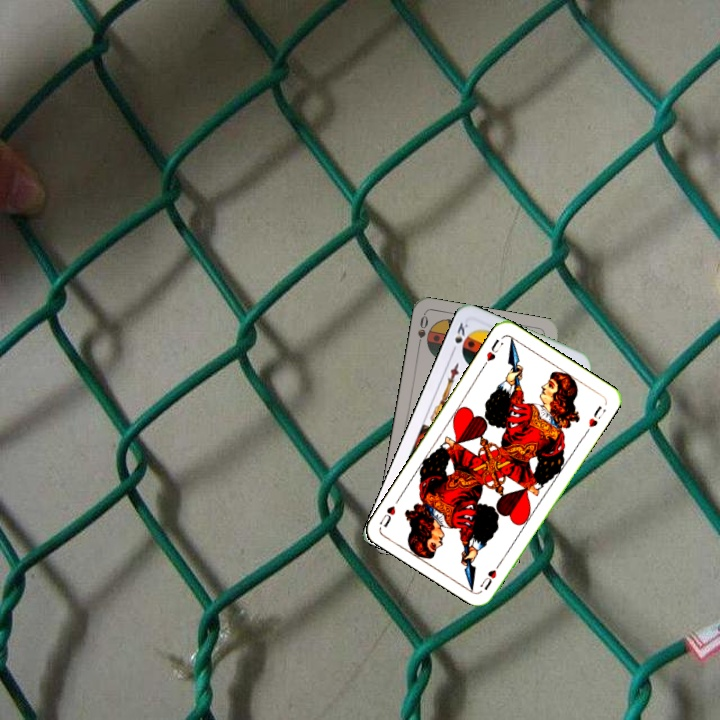HU: (476, 557, 504, 593), (479, 335, 502, 370)
SK: (447, 317, 471, 356)
SO: (413, 311, 431, 352)
